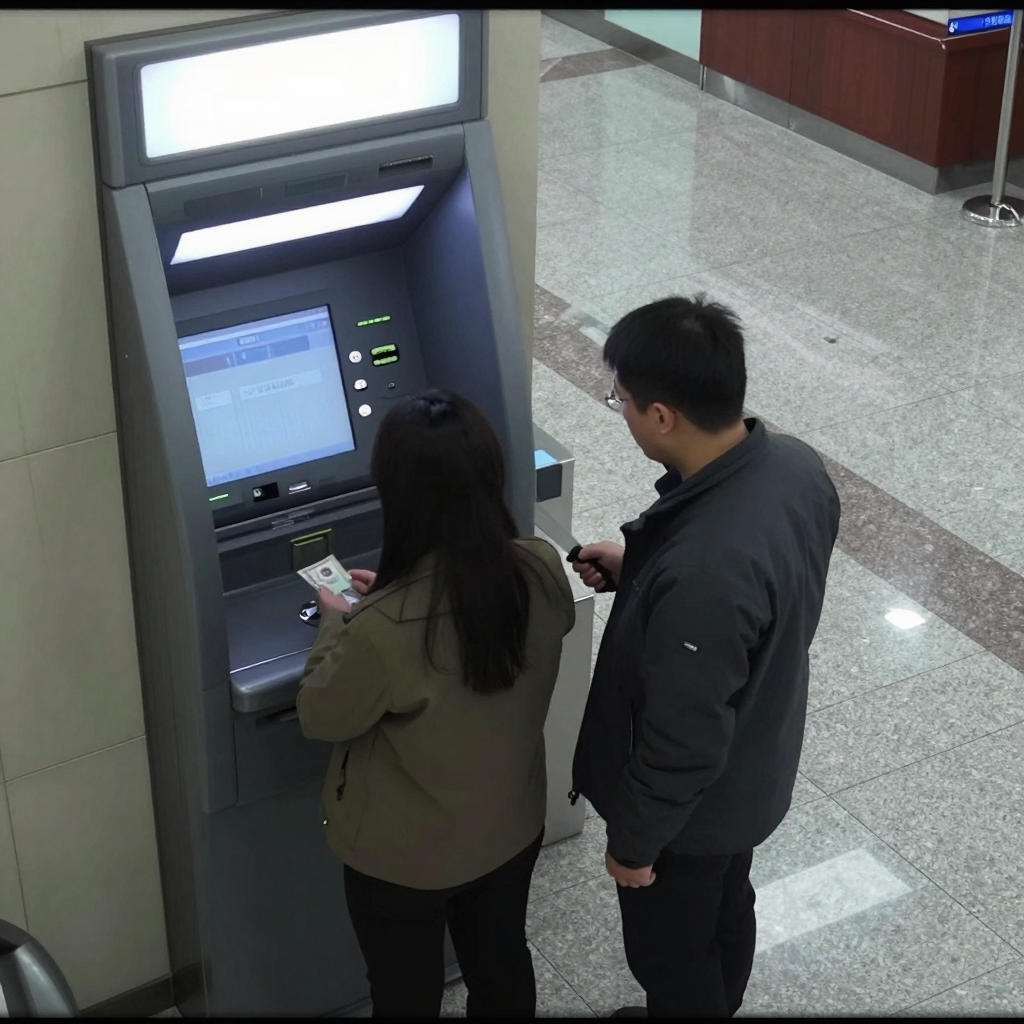Assault: (517, 497, 620, 594)
Robbery: (566, 292, 842, 1018), (295, 387, 576, 1018)
